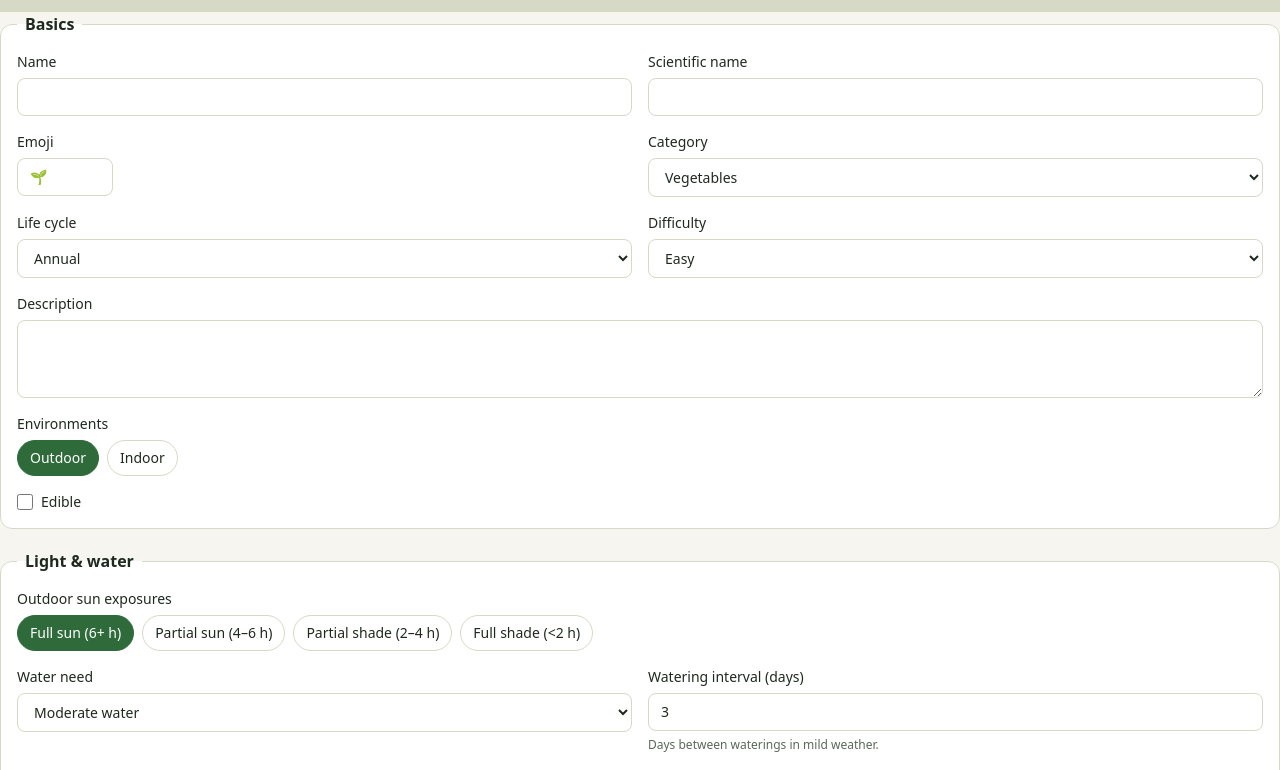
it: CustomPlantForm › reveals indoor light choices only for indoor plants
Expected: the element "Indoor light levels" is not shown
Click the button "Indoor": (142, 458) [107,440,178,476]
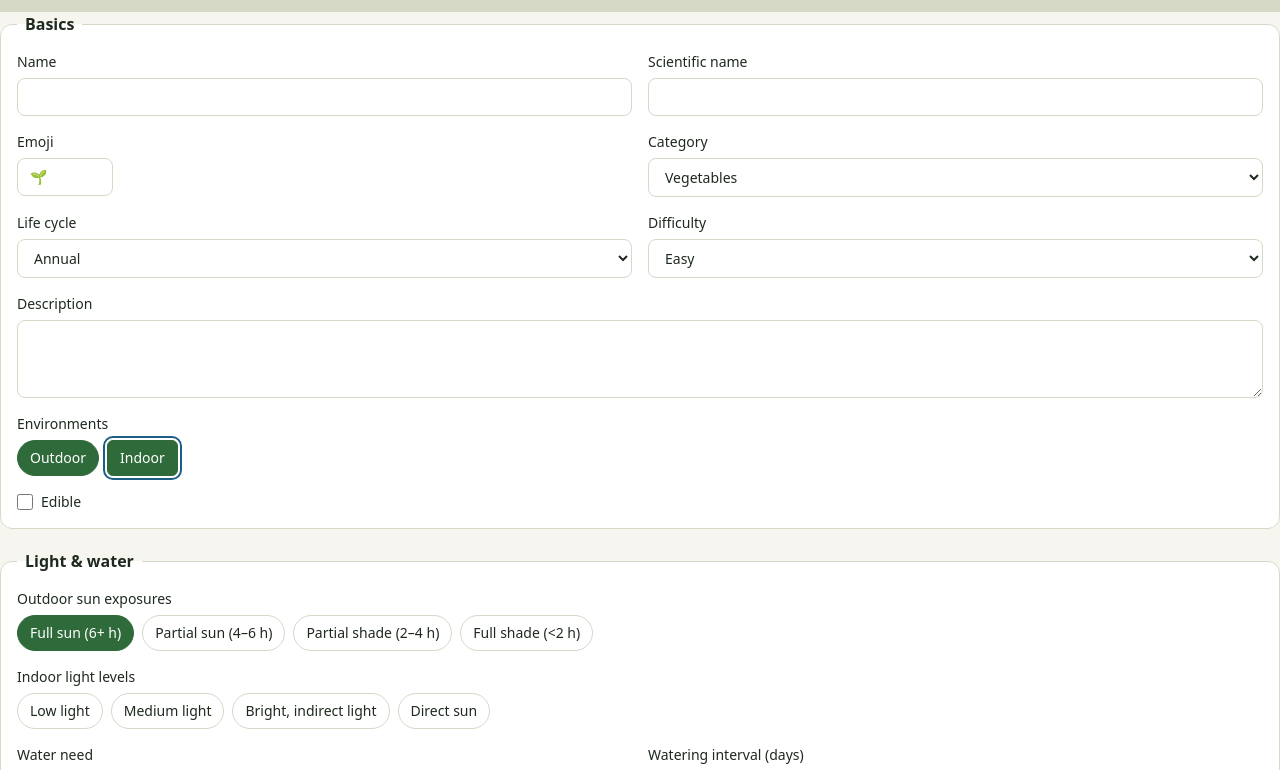
Result: the element "Indoor light levels" is shown at [17,667,490,729]
